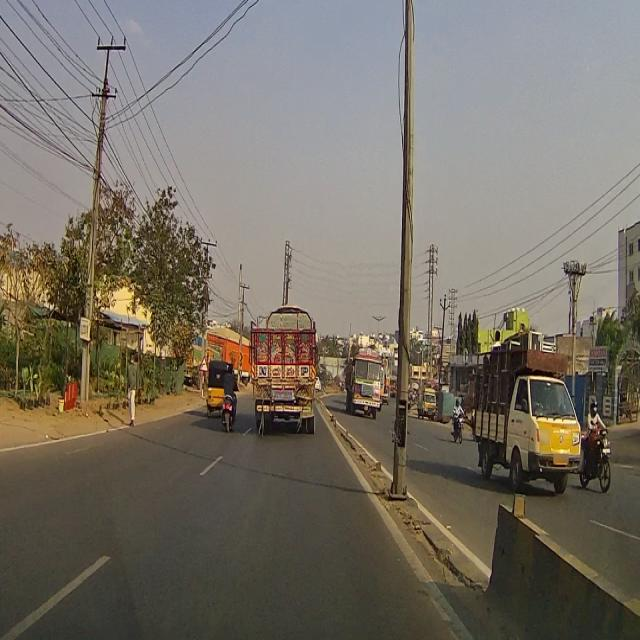right-hand-curve: (199, 356, 208, 372)
